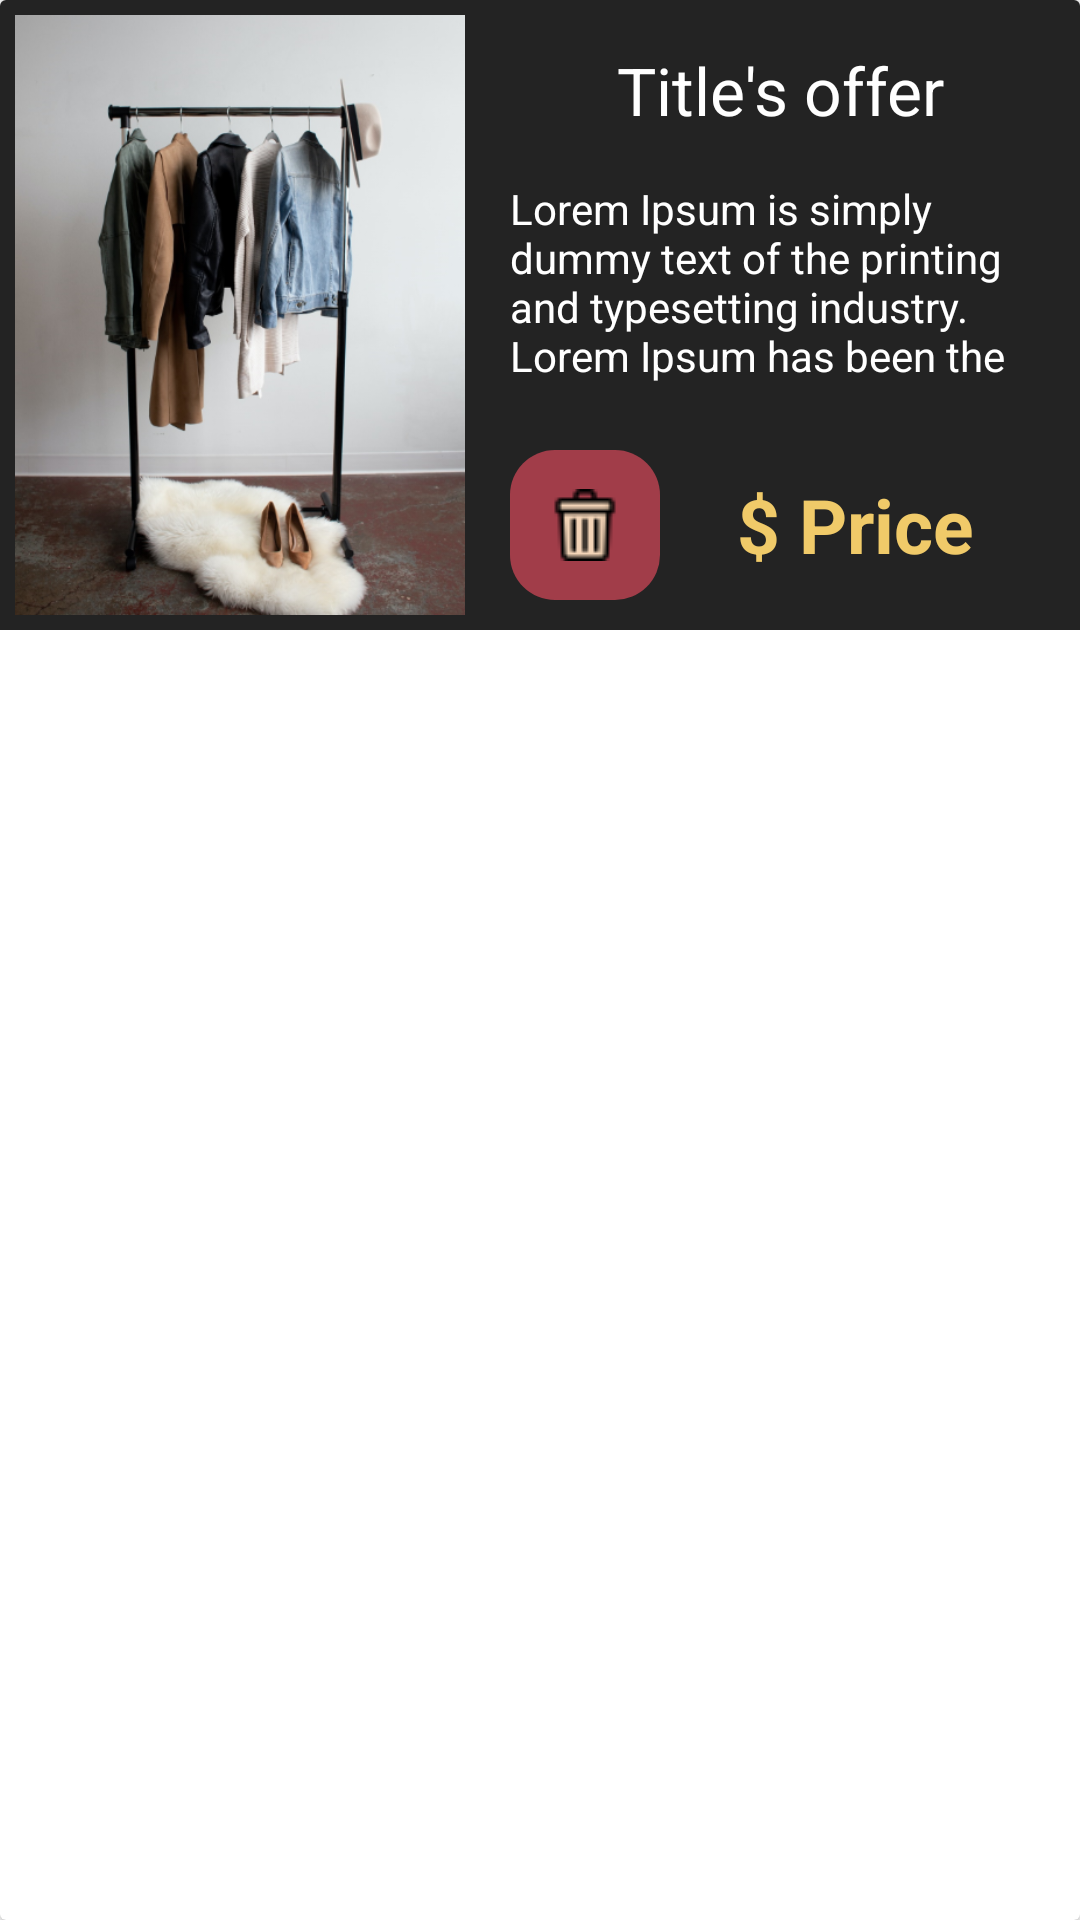

Where icons sit on this 1080*1920 app screen, as Rect(x1, y1, x2, y2):
trash: Rect(510, 450, 660, 600)
